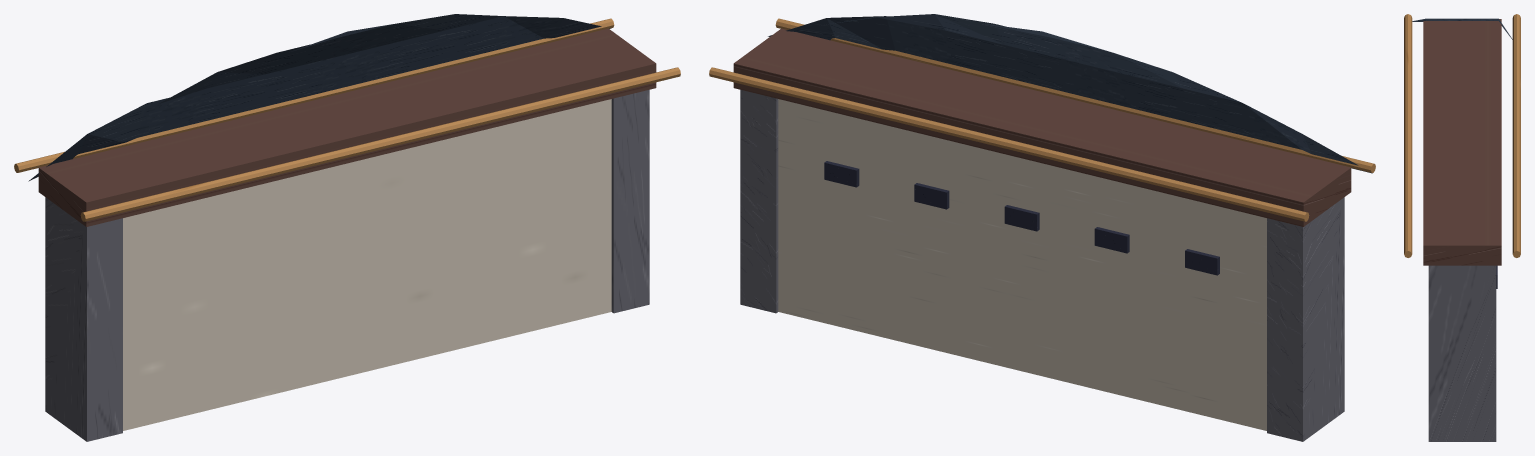
File: shogun_city_wall_module_lod0.glb
3 renders of one model, left to right at view 1: azimuth 30°, elevation 25°; view 2: azimuth 150°, elevation 25°; view 3: azimuth 270°, elevation 25°, orthographic. The views are drawn at different scales.
Visible parts, largest first — view 1: shogun_city_wall_module_000, shogun_city_wall_module_001, shogun_city_wall_module_002, shogun_city_wall_module_005, shogun_city_wall_module_006, shogun_city_wall_module_004, shogun_city_wall_module_003; view 2: shogun_city_wall_module_000, shogun_city_wall_module_001, shogun_city_wall_module_002, shogun_city_wall_module_005, shogun_city_wall_module_006, shogun_city_wall_module_003, shogun_city_wall_module_004, shogun_city_wall_module_008, shogun_city_wall_module_011, shogun_city_wall_module_009, shogun_city_wall_module_010, shogun_city_wall_module_007; view 3: shogun_city_wall_module_001, shogun_city_wall_module_006, shogun_city_wall_module_003, shogun_city_wall_module_004, shogun_city_wall_module_002.
Boxes of the visible parts, x1,y1,x2,y2 form: shogun_city_wall_module_000: [123, 99, 611, 430]; shogun_city_wall_module_001: [38, 28, 656, 226]; shogun_city_wall_module_002: [28, 14, 611, 181]; shogun_city_wall_module_005: [45, 197, 122, 441]; shogun_city_wall_module_006: [611, 89, 649, 313]; shogun_city_wall_module_004: [80, 67, 680, 221]; shogun_city_wall_module_003: [14, 18, 614, 172]; shogun_city_wall_module_000: [778, 99, 1266, 430]; shogun_city_wall_module_001: [733, 28, 1351, 226]; shogun_city_wall_module_002: [768, 14, 1372, 173]; shogun_city_wall_module_005: [1267, 197, 1344, 441]; shogun_city_wall_module_006: [740, 89, 778, 313]; shogun_city_wall_module_003: [709, 67, 1309, 221]; shogun_city_wall_module_004: [775, 18, 1375, 172]; shogun_city_wall_module_008: [1094, 227, 1129, 253]; shogun_city_wall_module_011: [824, 161, 859, 187]; shogun_city_wall_module_009: [1004, 205, 1039, 231]; shogun_city_wall_module_010: [914, 183, 949, 209]; shogun_city_wall_module_007: [1185, 249, 1219, 275]; shogun_city_wall_module_001: [1423, 19, 1501, 265]; shogun_city_wall_module_006: [1428, 265, 1496, 441]; shogun_city_wall_module_003: [1512, 14, 1520, 257]; shogun_city_wall_module_004: [1404, 14, 1412, 257]; shogun_city_wall_module_002: [1412, 18, 1512, 39].
Size of the model in its own units: 16.5 by 8.65 by 3.44.
Materials: 6 (6 with a texture image).
